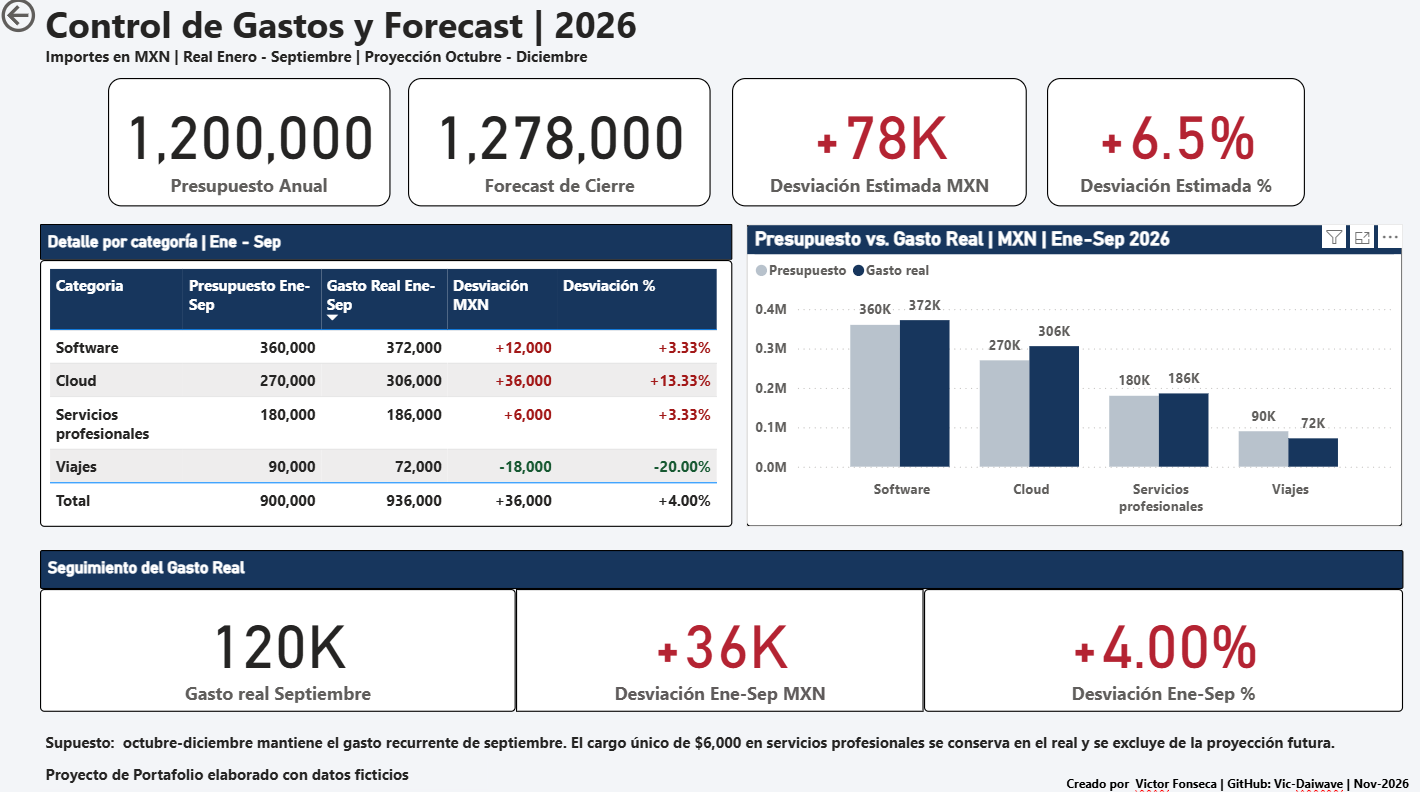

The page's visual inventory and layout, read from the dashboard file:
{"tool":"powerbi","page":{"name":"Resumen Ejecutivo","canvas":[1280,720],"ordinal":0},"visuals":[{"type":"tableEx","title":"a | Ene-Sep","fields":{"Values":["Gastos.Categoria","Sum(Gastos.Presupuesto_MXN)","Sum(Gastos.Real_MXN)","Gastos.Variacion_MXN","Gastos.Variacion_Pct"]},"box":[39.4,239.1,619.7,239.1],"z":0},{"type":"actionButton","box":[0,0,100,40],"z":1000},{"type":"clusteredColumnChart","title":"Presupuesto vs. Gasto Real | MXN | Ene-Sep 2026","fields":{"Category":["Gastos.Categoria"],"Y":["Sum(Gastos.Presupuesto_MXN)","Sum(Gastos.Real_MXN)"]},"box":[671.6,206.9,588.4,271.3],"z":2000},{"type":"card","fields":{"Values":["Gastos.Variacion_MXN"]},"box":[465.7,533.7,365.4,110.1],"z":3000},{"type":"card","fields":{"Values":["Gastos.Variacion_Pct"]},"box":[831,533.7,429,110.1],"z":4000},{"type":"card","fields":{"Values":["Gastos.Gasto_Septiembre"]},"box":[39.4,533.7,426.3,110.1],"z":5000},{"type":"card","fields":{"Values":["Gastos.Forecast_Cierre"]},"box":[369,76.1,271.3,114.6],"z":6000},{"type":"card","fields":{"Values":["Gastos.Presupuesto_Anual"]},"box":[100.3,76.1,252.5,114.6],"z":7000},{"type":"card","fields":{"Values":["Gastos.variacion_Forecast_MXN"]},"box":[659.1,76.1,264.2,114.6],"z":8000},{"type":"card","fields":{"Values":["Gastos.Variacion_Forecast_pct"]},"box":[941.2,76.1,231,114.6],"z":9000},{"type":"textbox","box":[39.4,0,1228.7,76.1],"z":10000},{"type":"textbox","box":[39.4,657.3,1228.7,28.7],"z":11000},{"type":"textbox","box":[39.4,206.9,619.7,32.2],"z":12000},{"type":"textbox","box":[39.4,498.8,1220.6,34.9],"z":13000},{"type":"textbox","box":[39.4,686,401.2,26.9],"z":14000},{"type":"textbox","box":[953.7,693.1,326,26.9],"z":14001}]}

Visuals, with their boxes in screenshot pixels (x1, y1, x2, y2), scaled from the page's 1280x720 canvas onto the 1420x792 screenshot:
"a | Ene-Sep" tableEx: (44, 263, 731, 526)
actionButton: (0, 0, 111, 44)
"Presupuesto vs. Gasto Real | MXN | Ene-Sep 2026" clusteredColumnChart: (745, 228, 1398, 526)
card - Gastos.Variacion_MXN: (517, 587, 922, 708)
card - Gastos.Variacion_Pct: (922, 587, 1398, 708)
card - Gastos.Gasto_Septiembre: (44, 587, 517, 708)
card - Gastos.Forecast_Cierre: (409, 84, 710, 210)
card - Gastos.Presupuesto_Anual: (111, 84, 391, 210)
card - Gastos.variacion_Forecast_MXN: (731, 84, 1024, 210)
card - Gastos.Variacion_Forecast_pct: (1044, 84, 1300, 210)
textbox: (44, 0, 1407, 84)
textbox: (44, 723, 1407, 755)
textbox: (44, 228, 731, 263)
textbox: (44, 549, 1398, 587)
textbox: (44, 755, 489, 784)
textbox: (1058, 762, 1419, 791)
